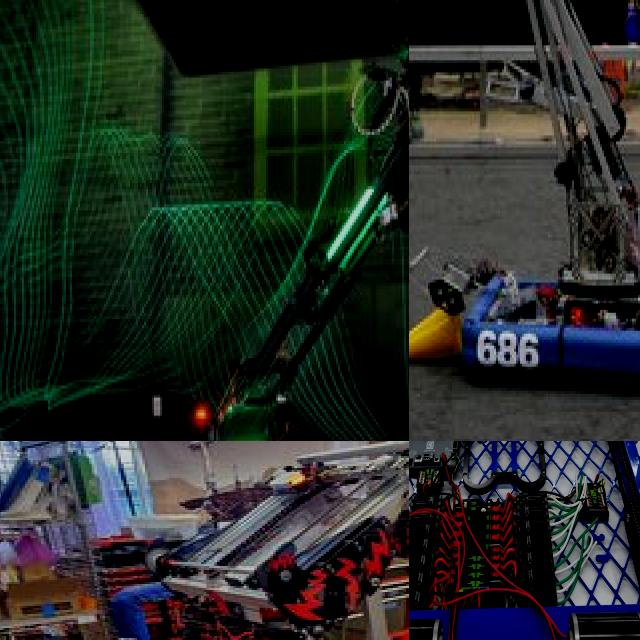FRC-Robots: (0, 5, 409, 441), (409, 0, 640, 399), (0, 441, 409, 640), (409, 441, 640, 640)
